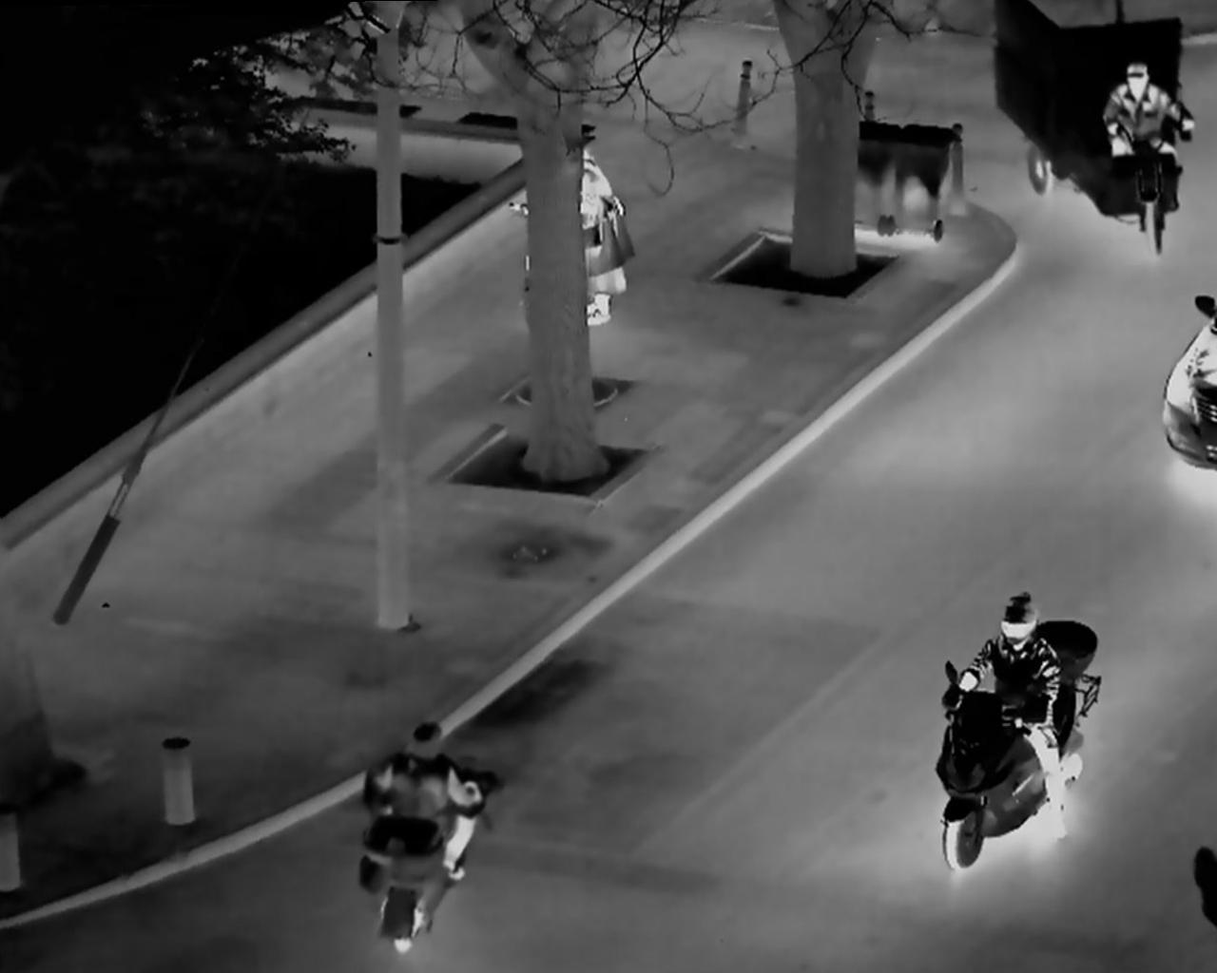person: (926, 572, 1112, 875), (353, 692, 487, 954), (1086, 51, 1196, 258), (561, 139, 641, 328)
